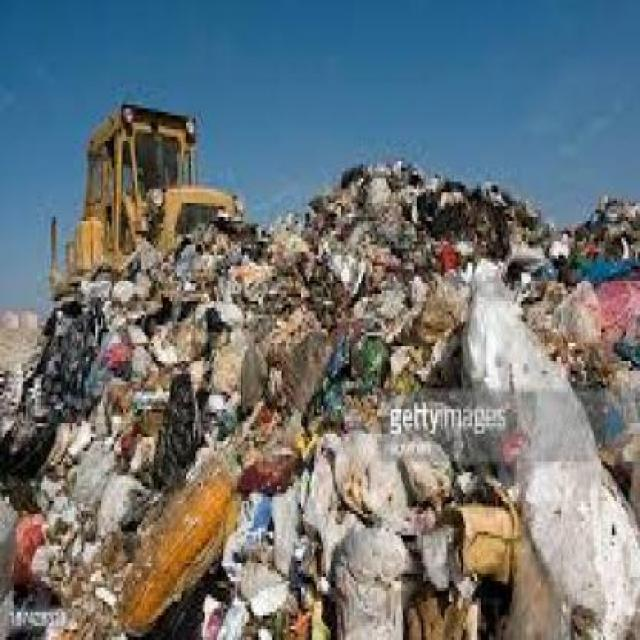garbage: (0, 203, 632, 637)
